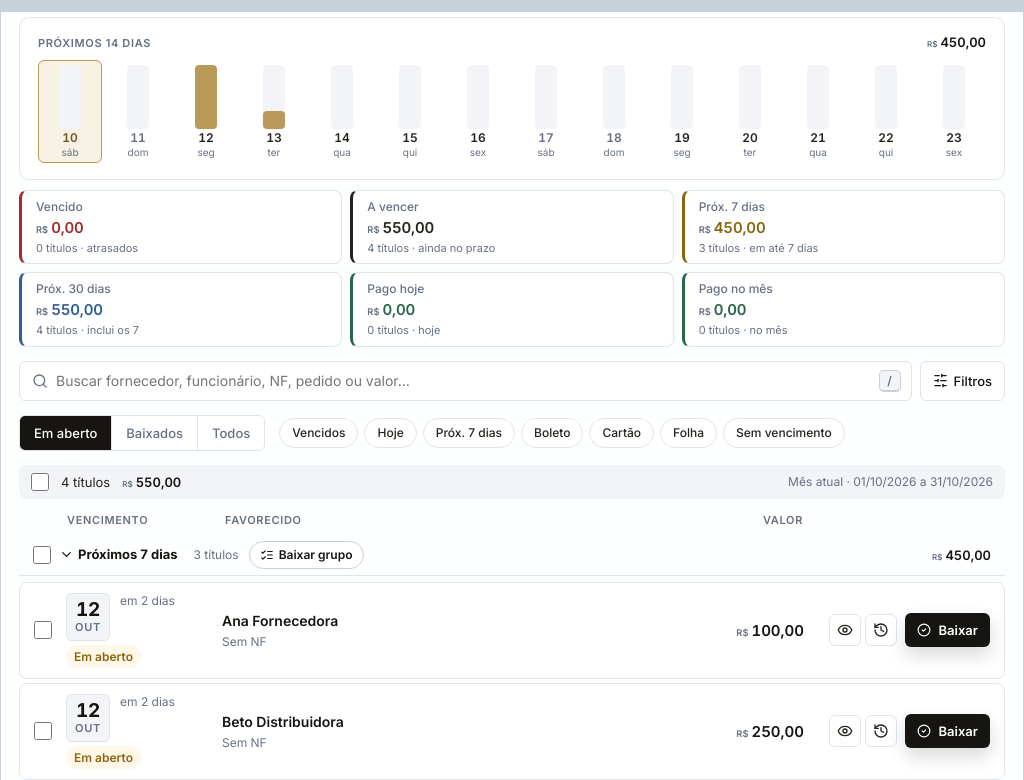
Test: Contas a Pagar — panorama › grupo pode ser recolhido
This screenshot has width=1024, height=780.
(page scrolled)
Click the button "Próximos 7 dias": (120, 554) left=57, top=544, right=184, bottom=564
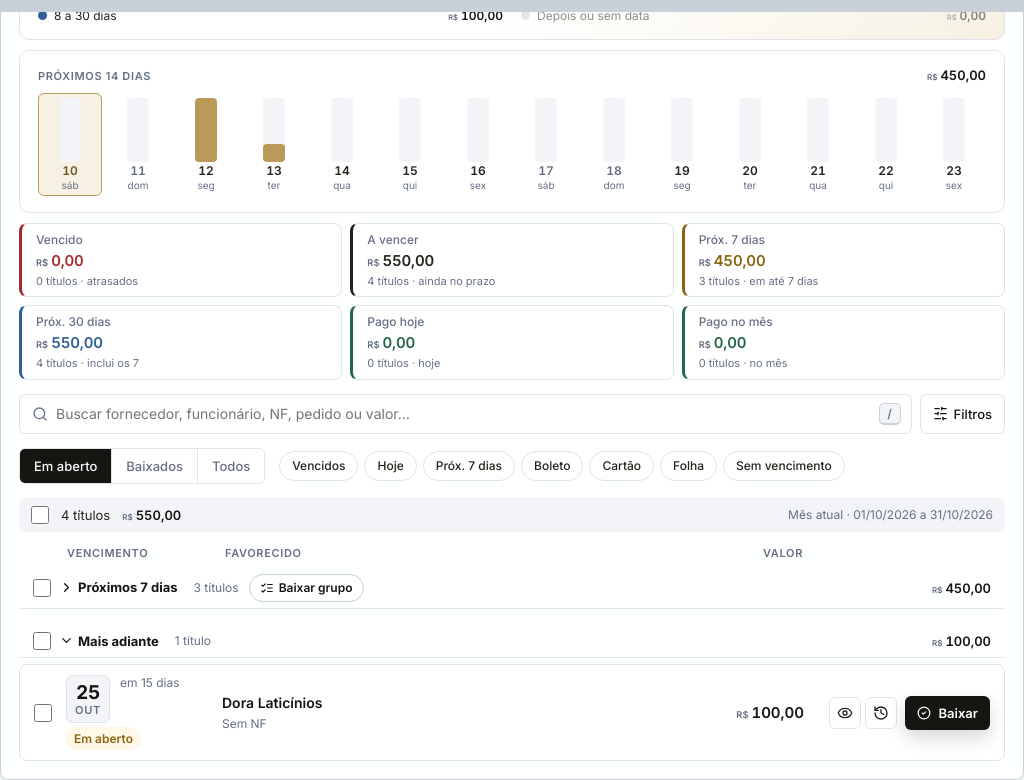
Result: the button "Próximos 7 dias" is collapsed at left=57, top=577, right=184, bottom=597
